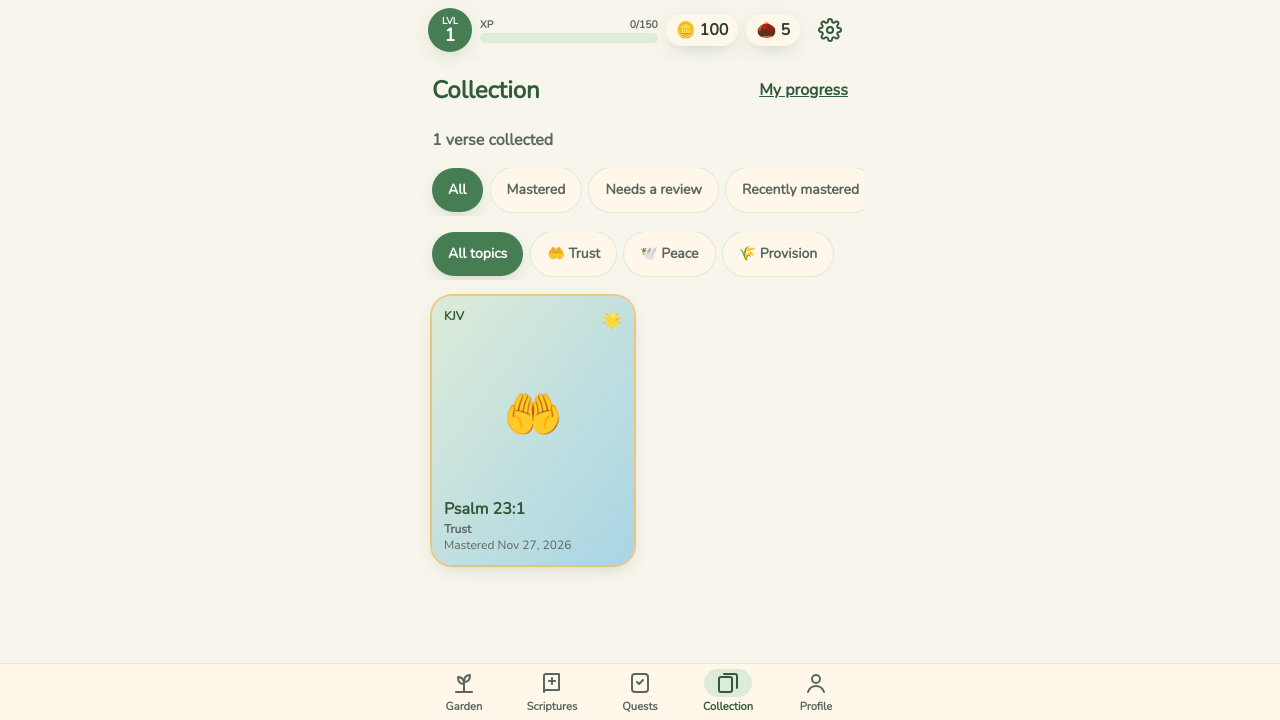
it: Phase 7 screens › Collection: lists mastered cards with filters
Expected: the text "1 verse collected" is shown, [432,129,553,151]
Expected: the link "KJV 🌟 🤲 Psalm 23:1 Trust Mastered Nov 27, 2026" is shown, [432,296,634,565]
Click the button "Needs a review" at {"x": 654, "y": 190}, box [589,168,718,212]
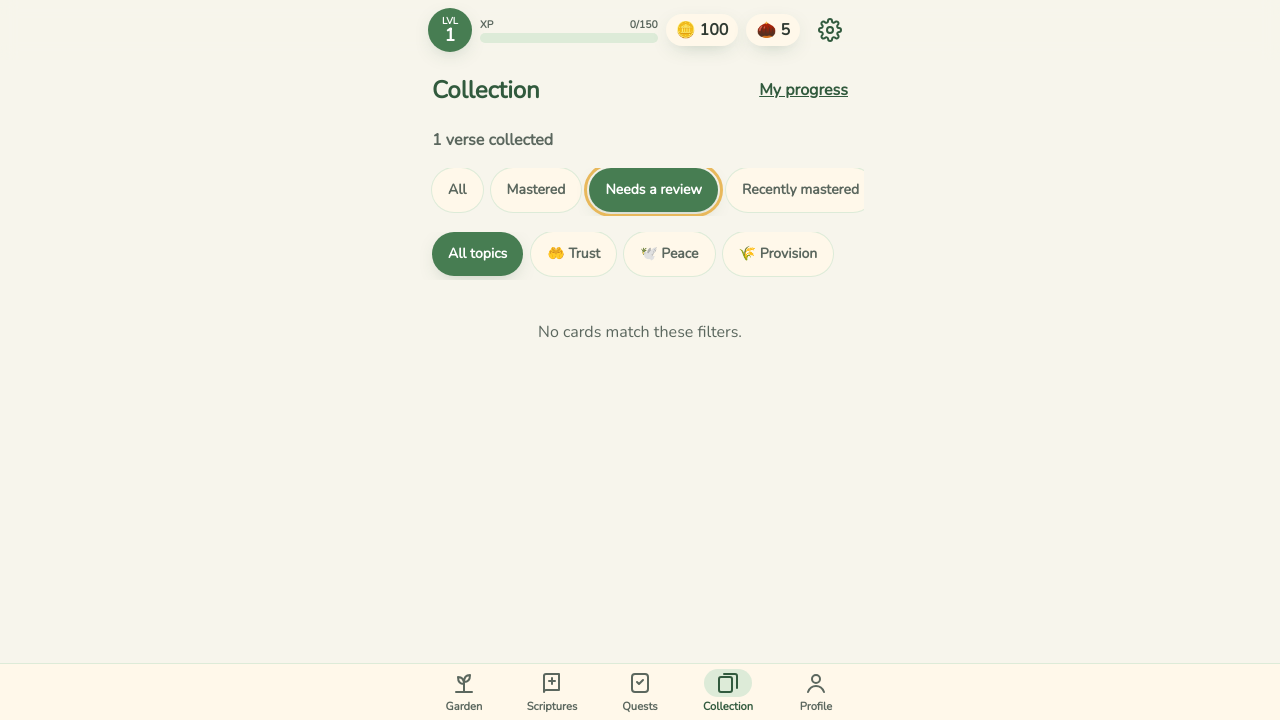
Result: the text "No cards match these filters." is shown at [538,321,742,343]
Click the button "Mastered" at {"x": 536, "y": 190}, box [490,168,581,212]
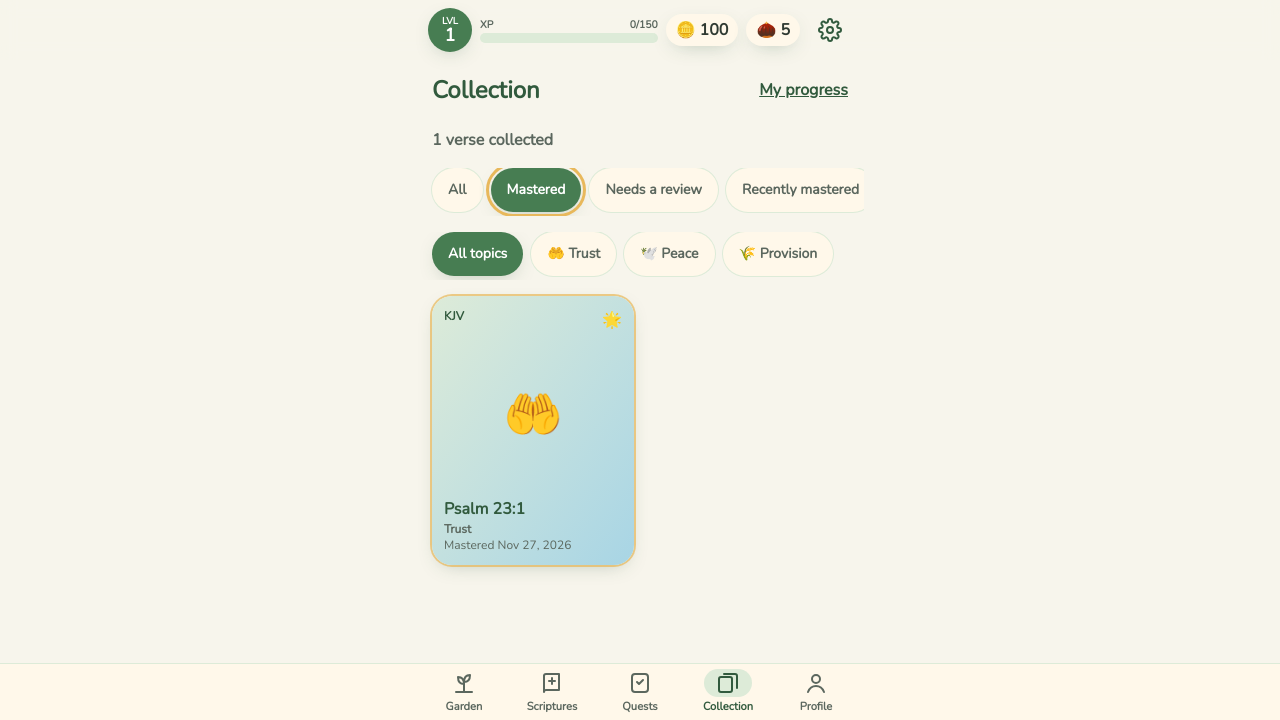
Result: the link "KJV 🌟 🤲 Psalm 23:1 Trust Mastered Nov 27, 2026" is shown at [432,296,634,565]
